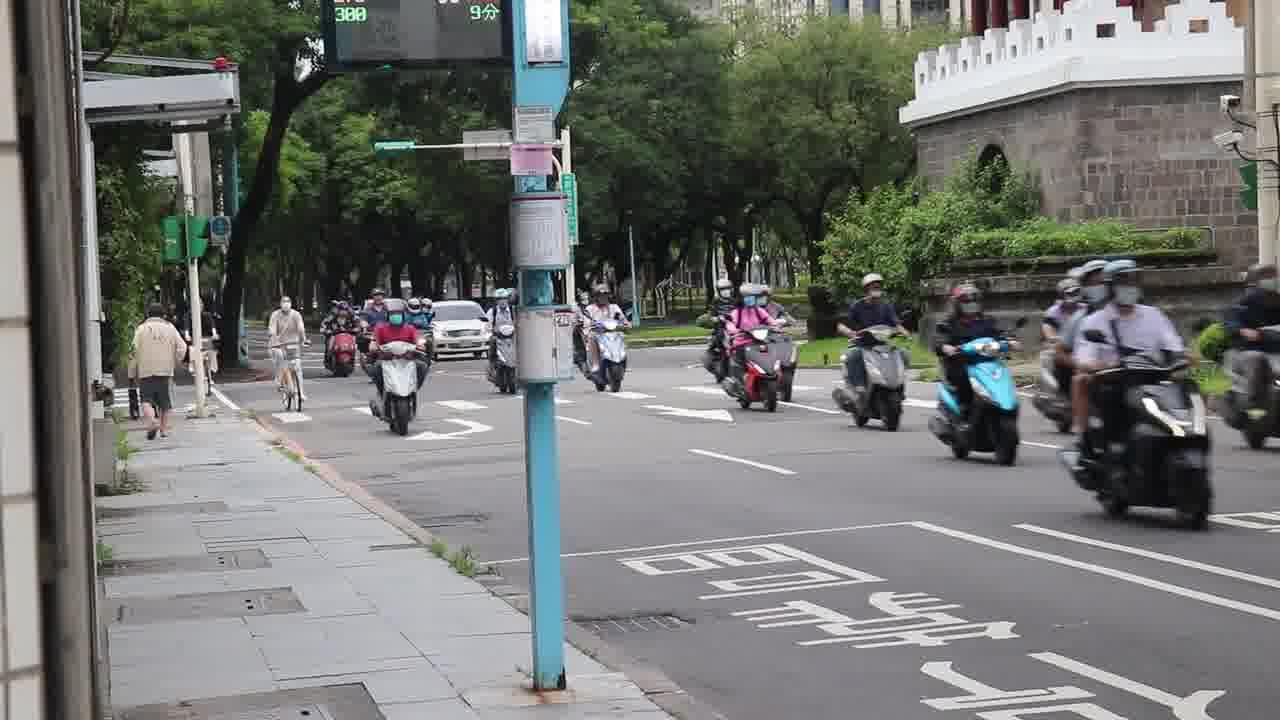bicyclist: (268, 295, 312, 413)
driver: (1057, 258, 1217, 532), (926, 283, 1030, 467), (833, 272, 914, 432), (720, 282, 787, 412), (367, 299, 428, 435), (581, 283, 636, 393), (478, 286, 519, 395)
helmet: (1102, 260, 1144, 307), (1081, 259, 1111, 308), (951, 285, 986, 318), (384, 299, 408, 327), (861, 273, 885, 300)
